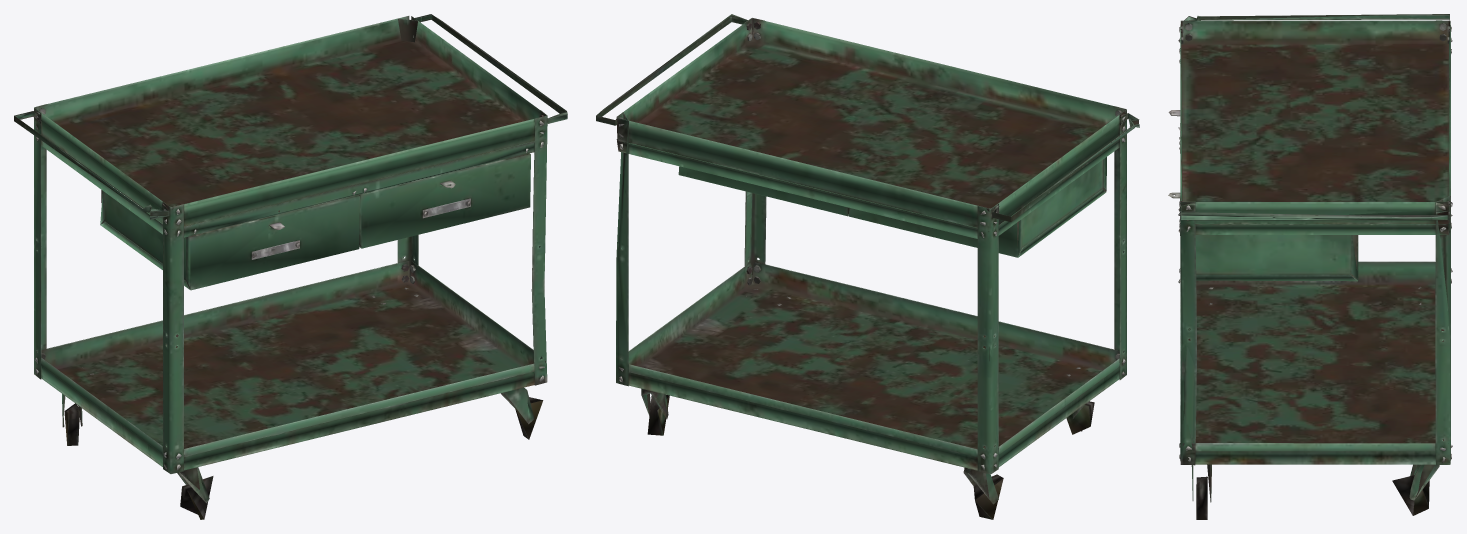
Rendered from scene-tool-cart.glb.
3 views of the same model, side by side, from view 1: azimuth 30°, elevation 25°; view 2: azimuth 150°, elevation 25°; view 3: azimuth 270°, elevation 25° (orthographic).
Parts seen in each view (by area): view 1: tool_cart; view 2: tool_cart; view 3: tool_cart.
Part boxes in pixels (x1=…): tool_cart: x1=14, y1=14, x2=567, y2=519; tool_cart: x1=596, y1=14, x2=1139, y2=519; tool_cart: x1=1168, y1=14, x2=1452, y2=519.
Bounding box in the file's own units: 1.26 × 0.9457 × 0.7521.
Materials: 1 (1 with a texture image).
